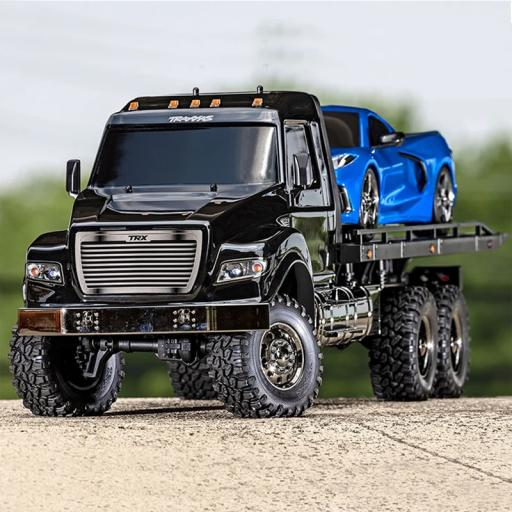coupe: (318, 99, 471, 227)
truck: (10, 86, 506, 416), (322, 104, 456, 228)
